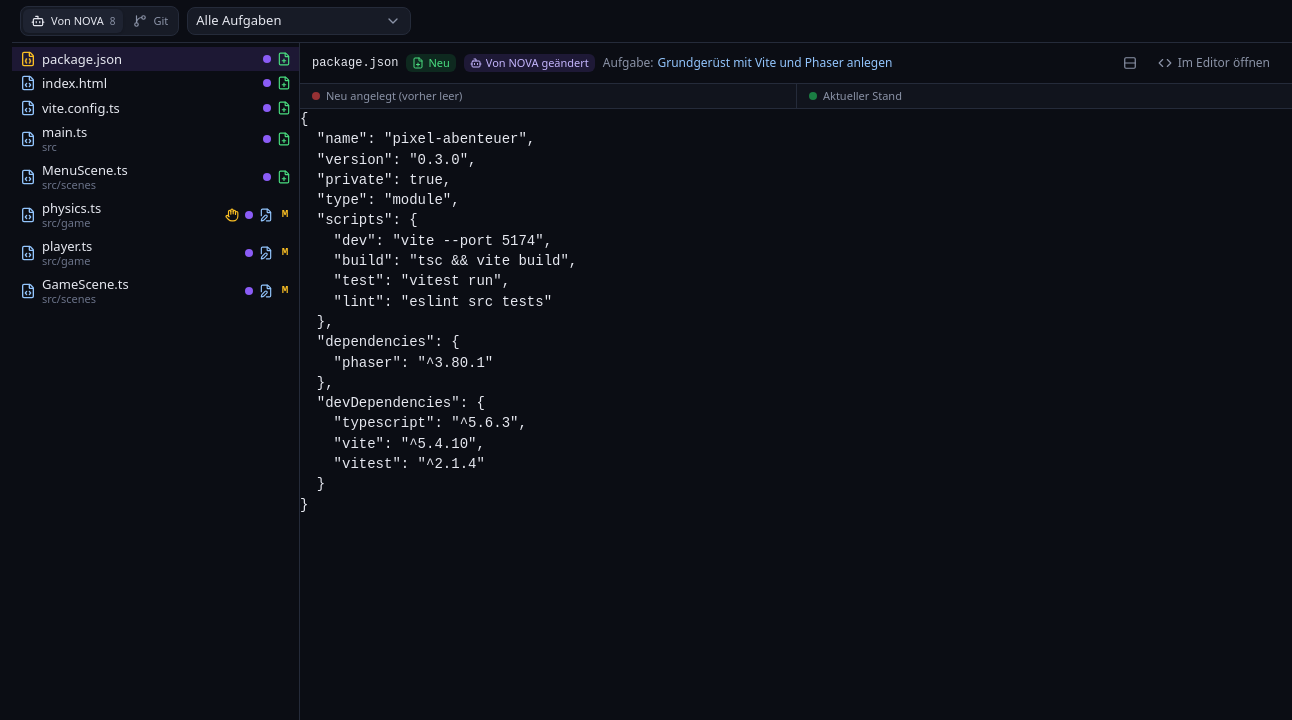
ChangesPanel › shows open git changes with git.diff
The image size is (1292, 720).
What coordinates should you click on to do the following:
click the radio button labelled "Git"
I would click on:
 (151, 21)
Its box is 126,9 -> 176,33.
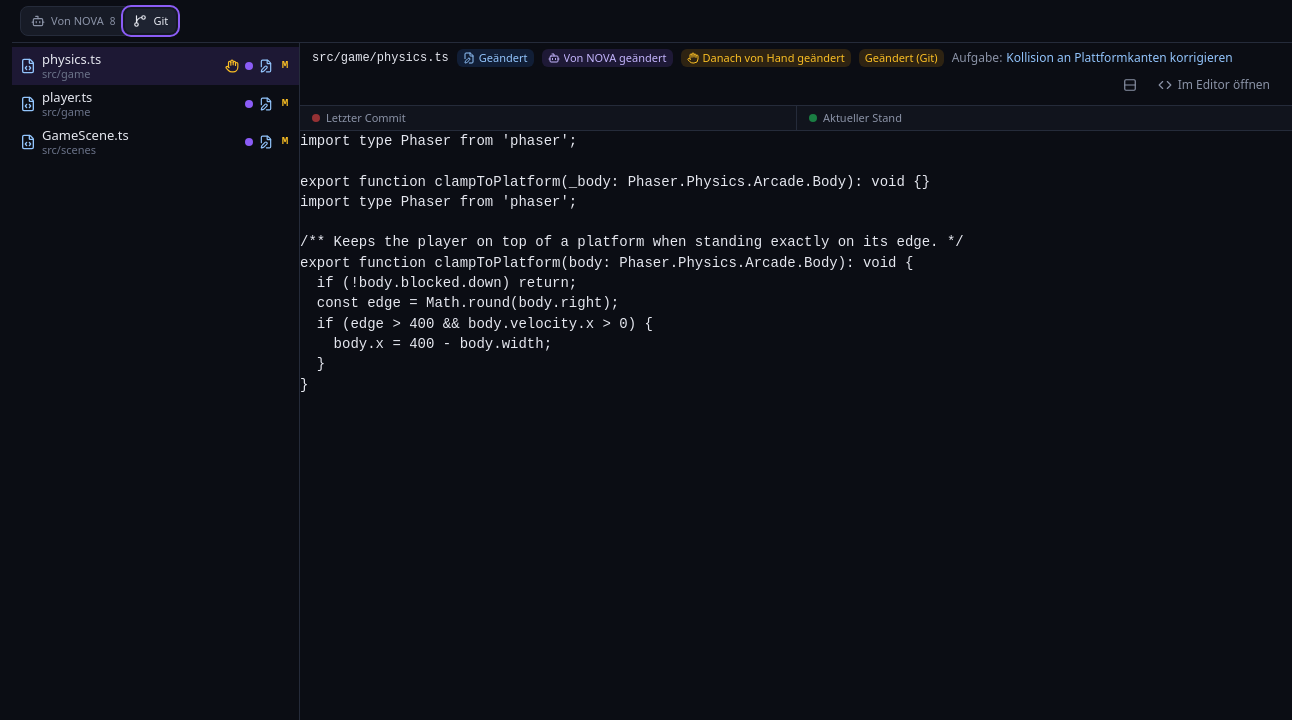
Check: the text "Letzter Commit" is shown, box 312,110 -> 406,125
